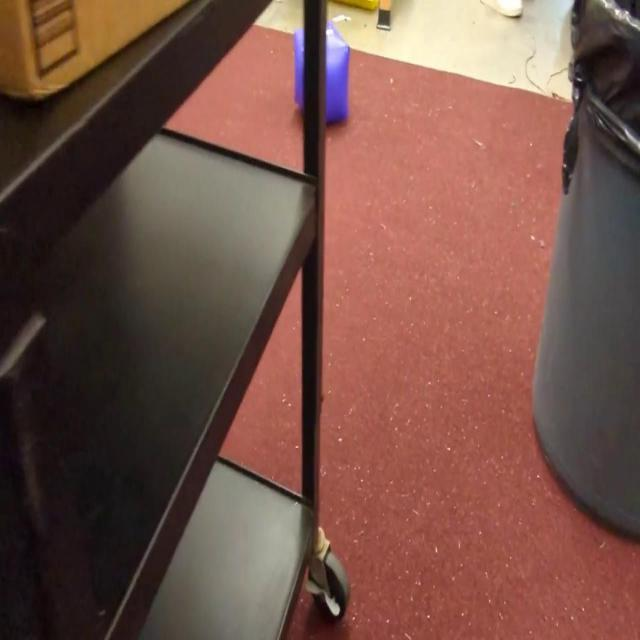frc_cube: (293, 19, 349, 121)
